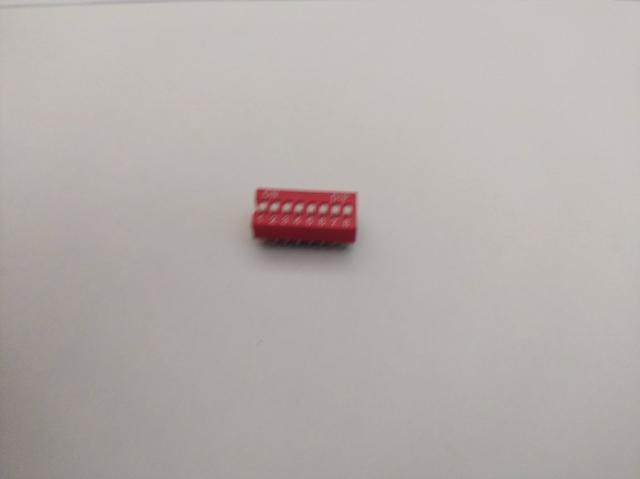dip_switch: (251, 188, 357, 250)
